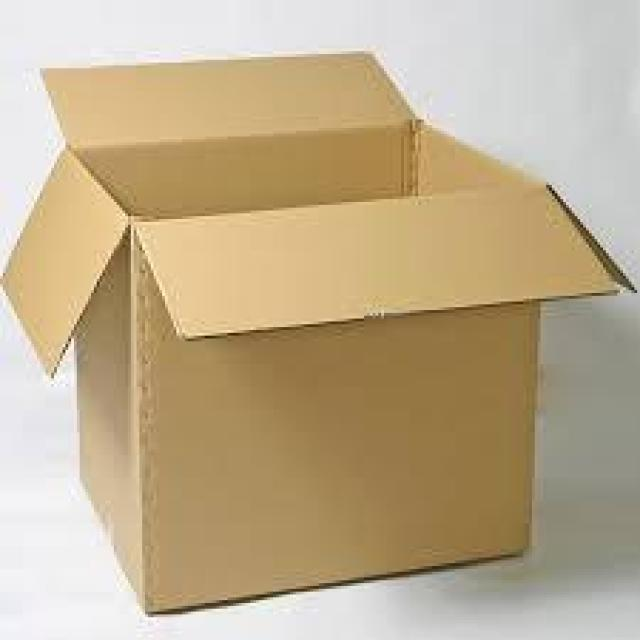box: (0, 49, 640, 616)
